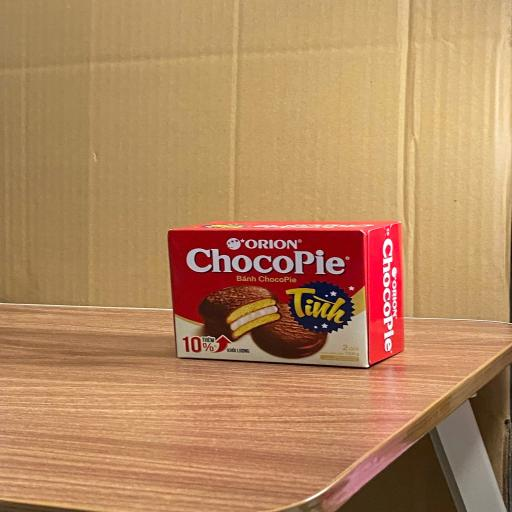chocopie: (169, 221, 404, 369)
